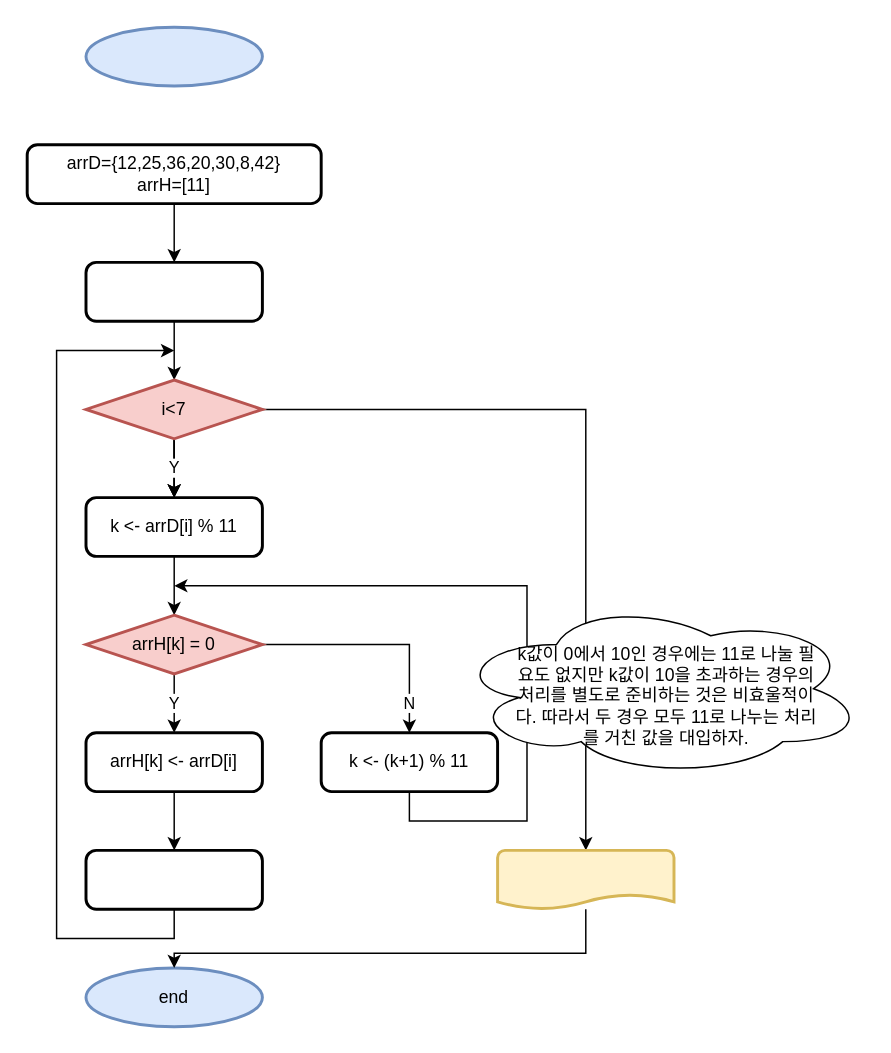
Some shapes in this 891 by 1053 pixel diagram are drawn without their labels. The centre of each missing label's shape, as x and y in pixels:
"arrH" goes at pixel 585 879.
"i <- 0" goes at pixel 173 291.
"i <- i+1" goes at pixel 173 879.
"start" goes at pixel 173 56.
